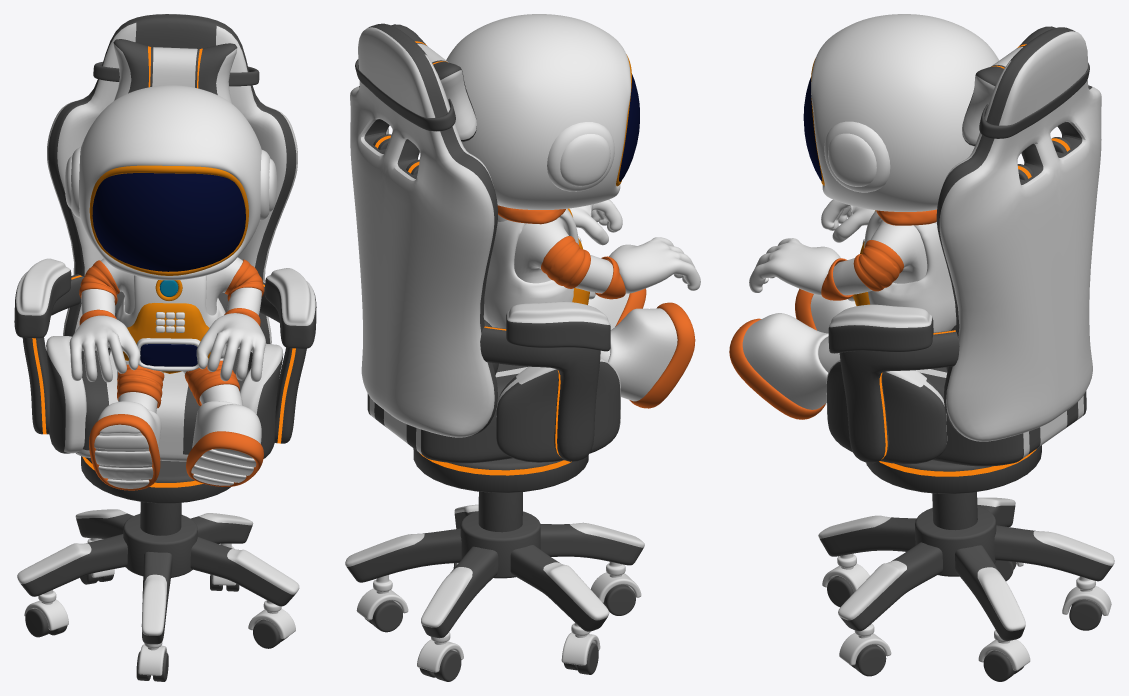
Rendered from astronauta_silla_2.glb.
3 views of the same model, side by side, from view 1: azimuth 30°, elevation 25°; view 2: azimuth 150°, elevation 25°; view 3: azimuth 270°, elevation 25° (orthographic). The views are drawn at different scales.
Parts seen in each view (by area): view 1: Cube.129, Plane.044, Cube.119, Cube.127, Cube.015, Cube.132, Plane.047, Plane.045, Cube.017, Plane.046, Plane.042, Cube.131 (+23 smaller); view 2: Plane.044, Cube.129, Cube.127, Cube.014, Plane.045, Plane.046, Cube.132, Plane.047, Circle.008, Cube.123, Cube.015, Plane.042 (+19 smaller); view 3: Plane.044, Cube.129, Cube.127, Cube.014, Plane.045, Plane.046, Cube.015, Cube.132, Plane.047, Circle.008, Cube.123, Plane.042 (+19 smaller).
Part boxes in pixels (box(x1,y1,x2,y2)): Cube.129: box(79, 85, 261, 280); Plane.044: box(47, 14, 297, 344); Cube.119: box(92, 173, 245, 271); Cube.127: box(89, 401, 263, 490); Cube.015: box(17, 534, 299, 606); Cube.132: box(69, 313, 265, 382); Plane.047: box(14, 258, 316, 348); Plane.045: box(46, 336, 283, 458); Cube.017: box(113, 39, 237, 103); Plane.046: box(22, 274, 306, 443); Plane.042: box(76, 349, 248, 461); Cube.131: box(81, 257, 261, 315); Plane.044: box(350, 23, 497, 437); Cube.129: box(446, 14, 630, 209); Cube.127: box(588, 288, 695, 408); Cube.014: box(345, 528, 498, 638); Plane.045: box(496, 357, 620, 462); Plane.046: box(480, 326, 600, 461); Cube.132: box(569, 199, 700, 293); Plane.047: box(506, 301, 610, 351); Circle.008: box(413, 448, 588, 492); Cube.123: box(483, 208, 578, 328); Cube.015: box(454, 504, 609, 631); Plane.042: box(367, 363, 527, 463); Plane.044: box(936, 27, 1101, 441); Cube.129: box(811, 14, 999, 211); Cube.127: box(729, 288, 856, 419); Cube.014: box(955, 525, 1114, 640); Plane.045: box(826, 360, 947, 464); Plane.046: box(839, 330, 959, 463); Cube.015: box(838, 497, 1015, 631); Cube.132: box(749, 199, 874, 294); Plane.047: box(828, 304, 933, 353); Circle.008: box(866, 445, 1041, 493); Cube.123: box(864, 210, 956, 332); Plane.042: box(917, 367, 1086, 466).
Bounding box in the file's own units: 2.62 × 5.3 × 2.97.
